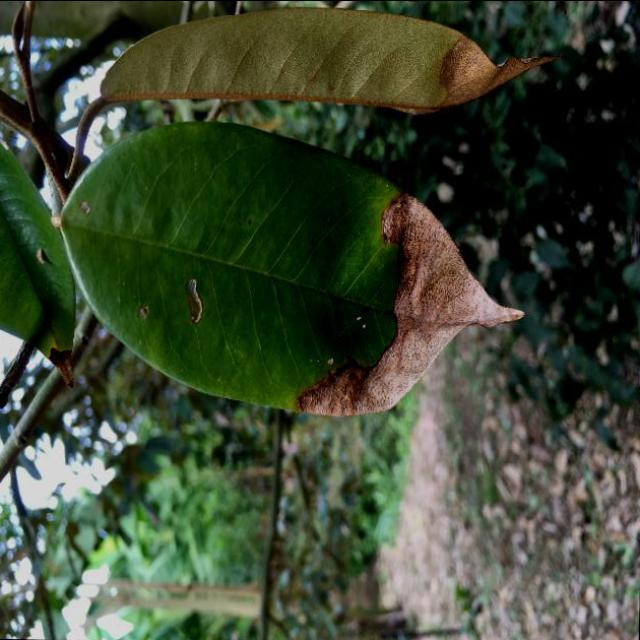Leaf Blight: (38, 107, 535, 425)
